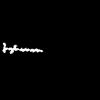double_crochet: (3, 43, 41, 52)
